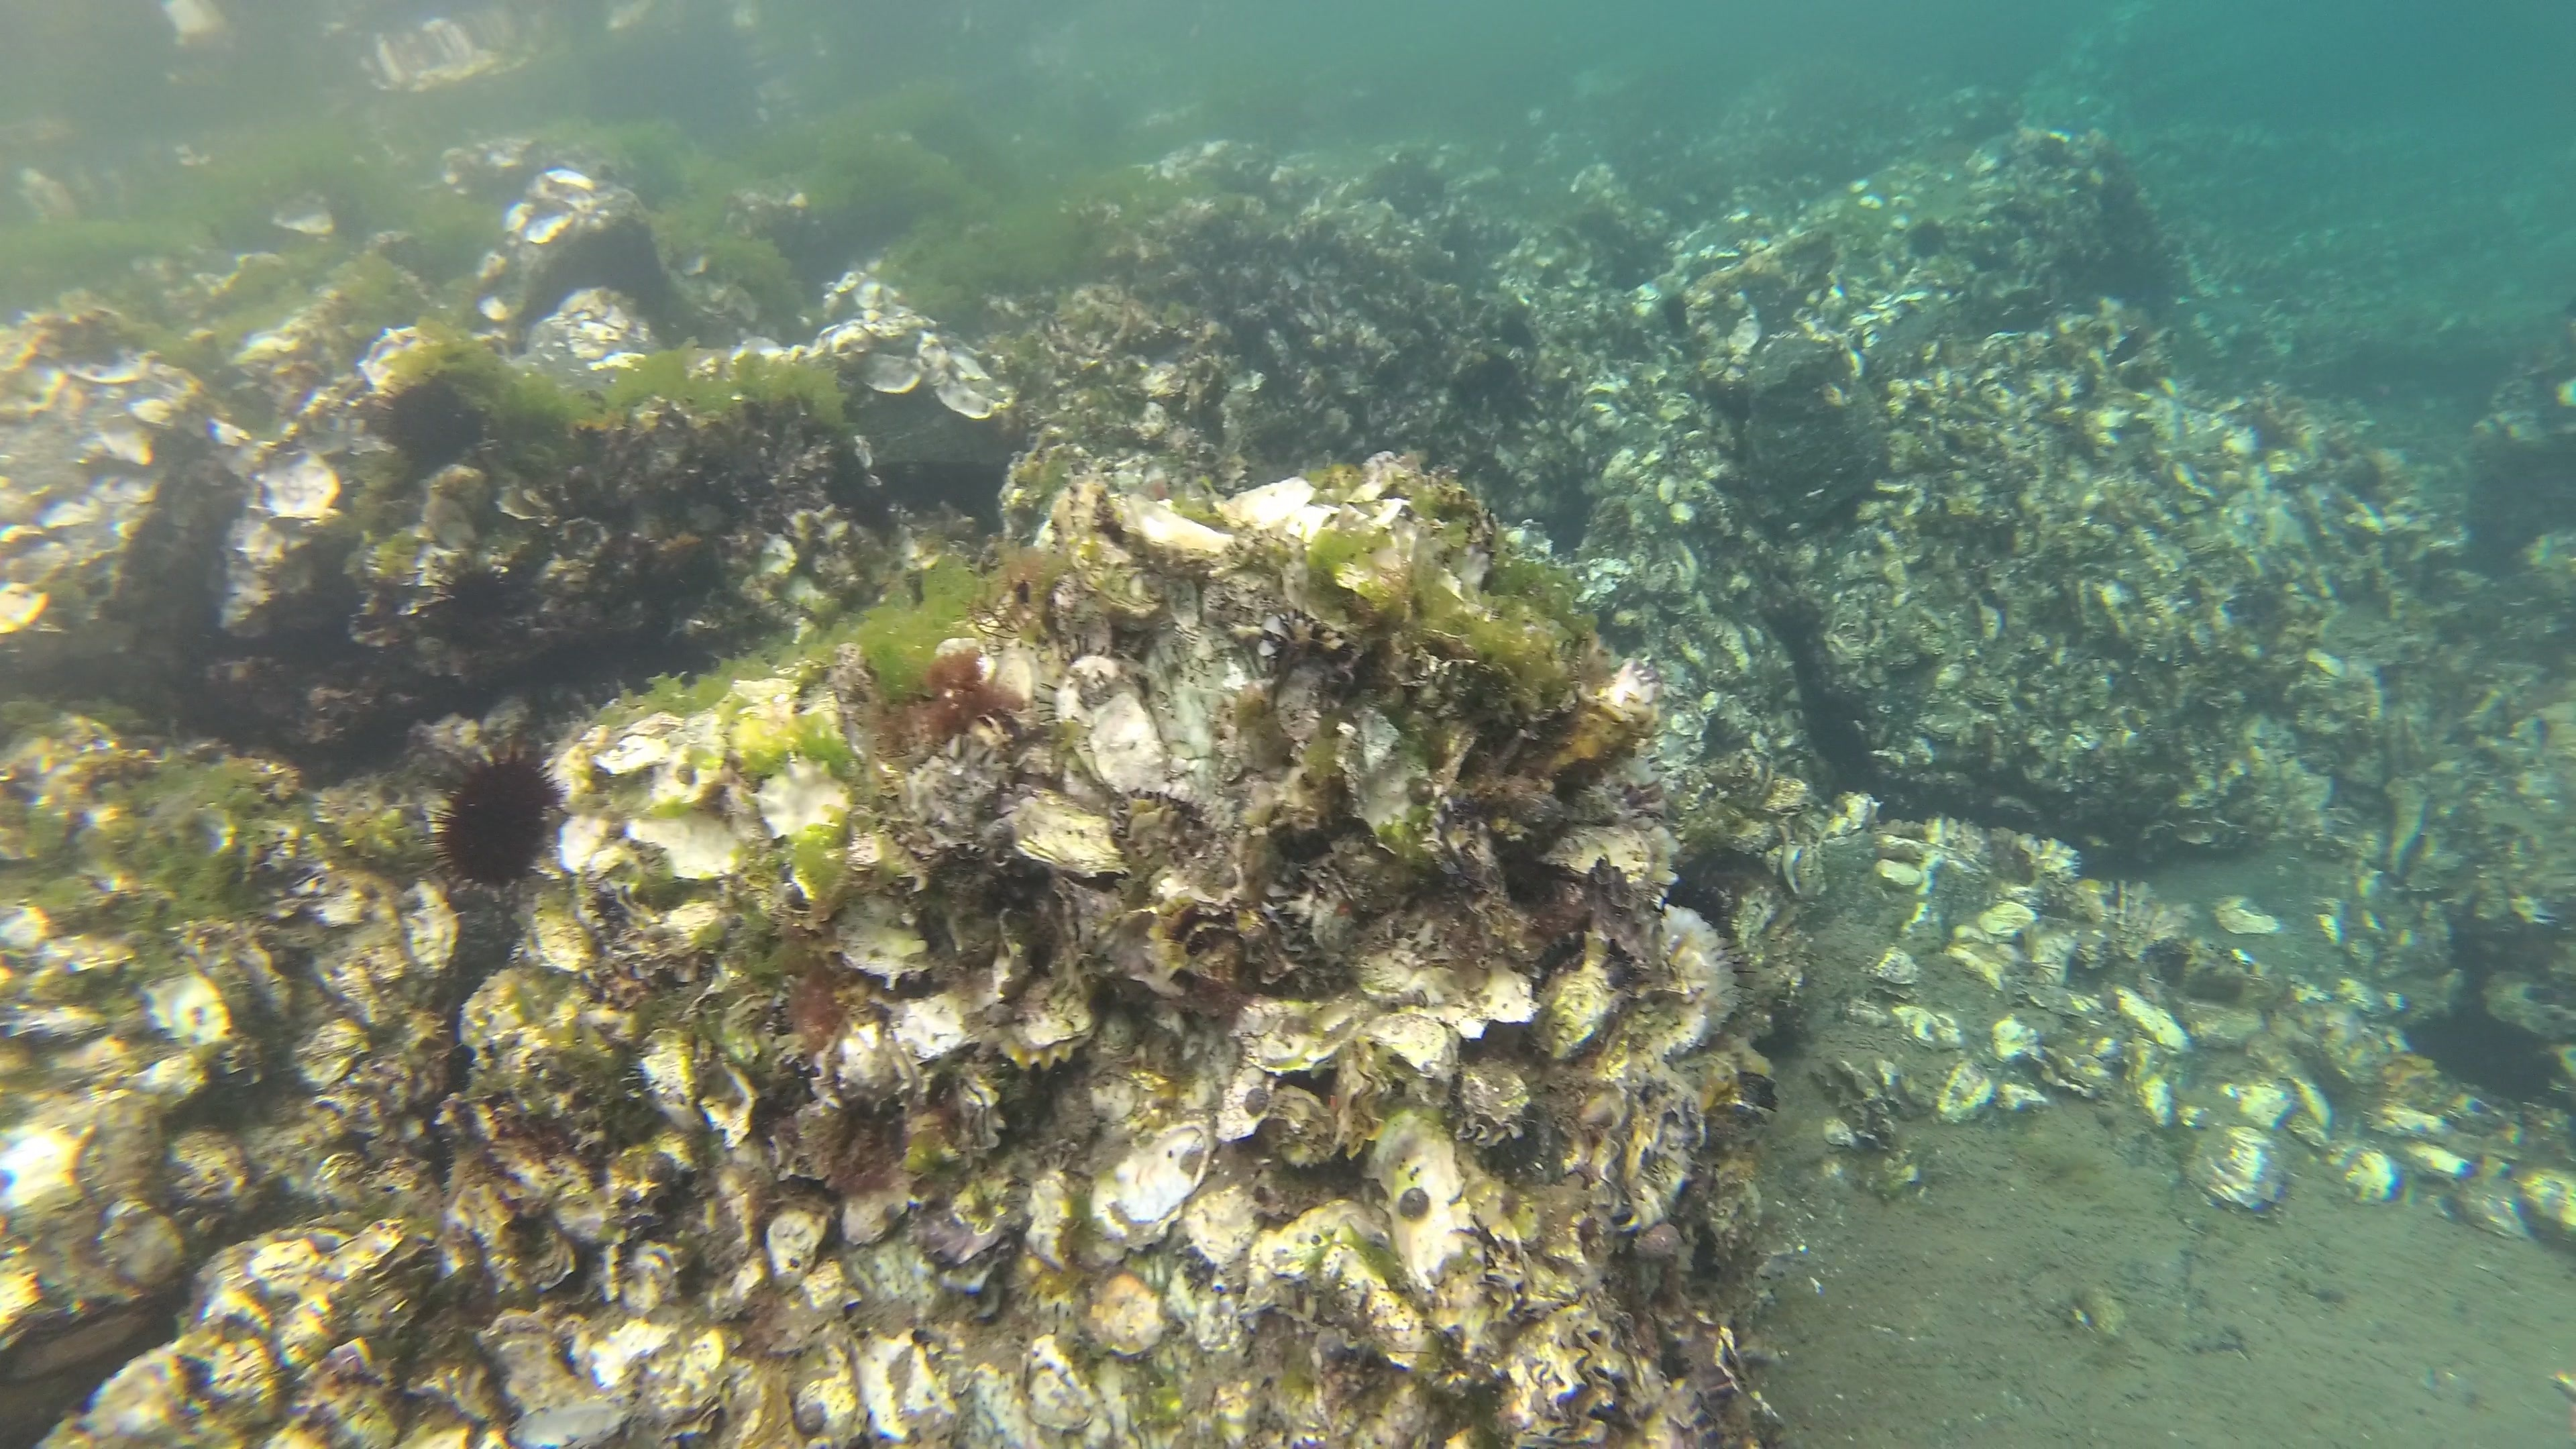echinus: (425, 740, 575, 906), (366, 370, 501, 485), (1897, 207, 1959, 274)
